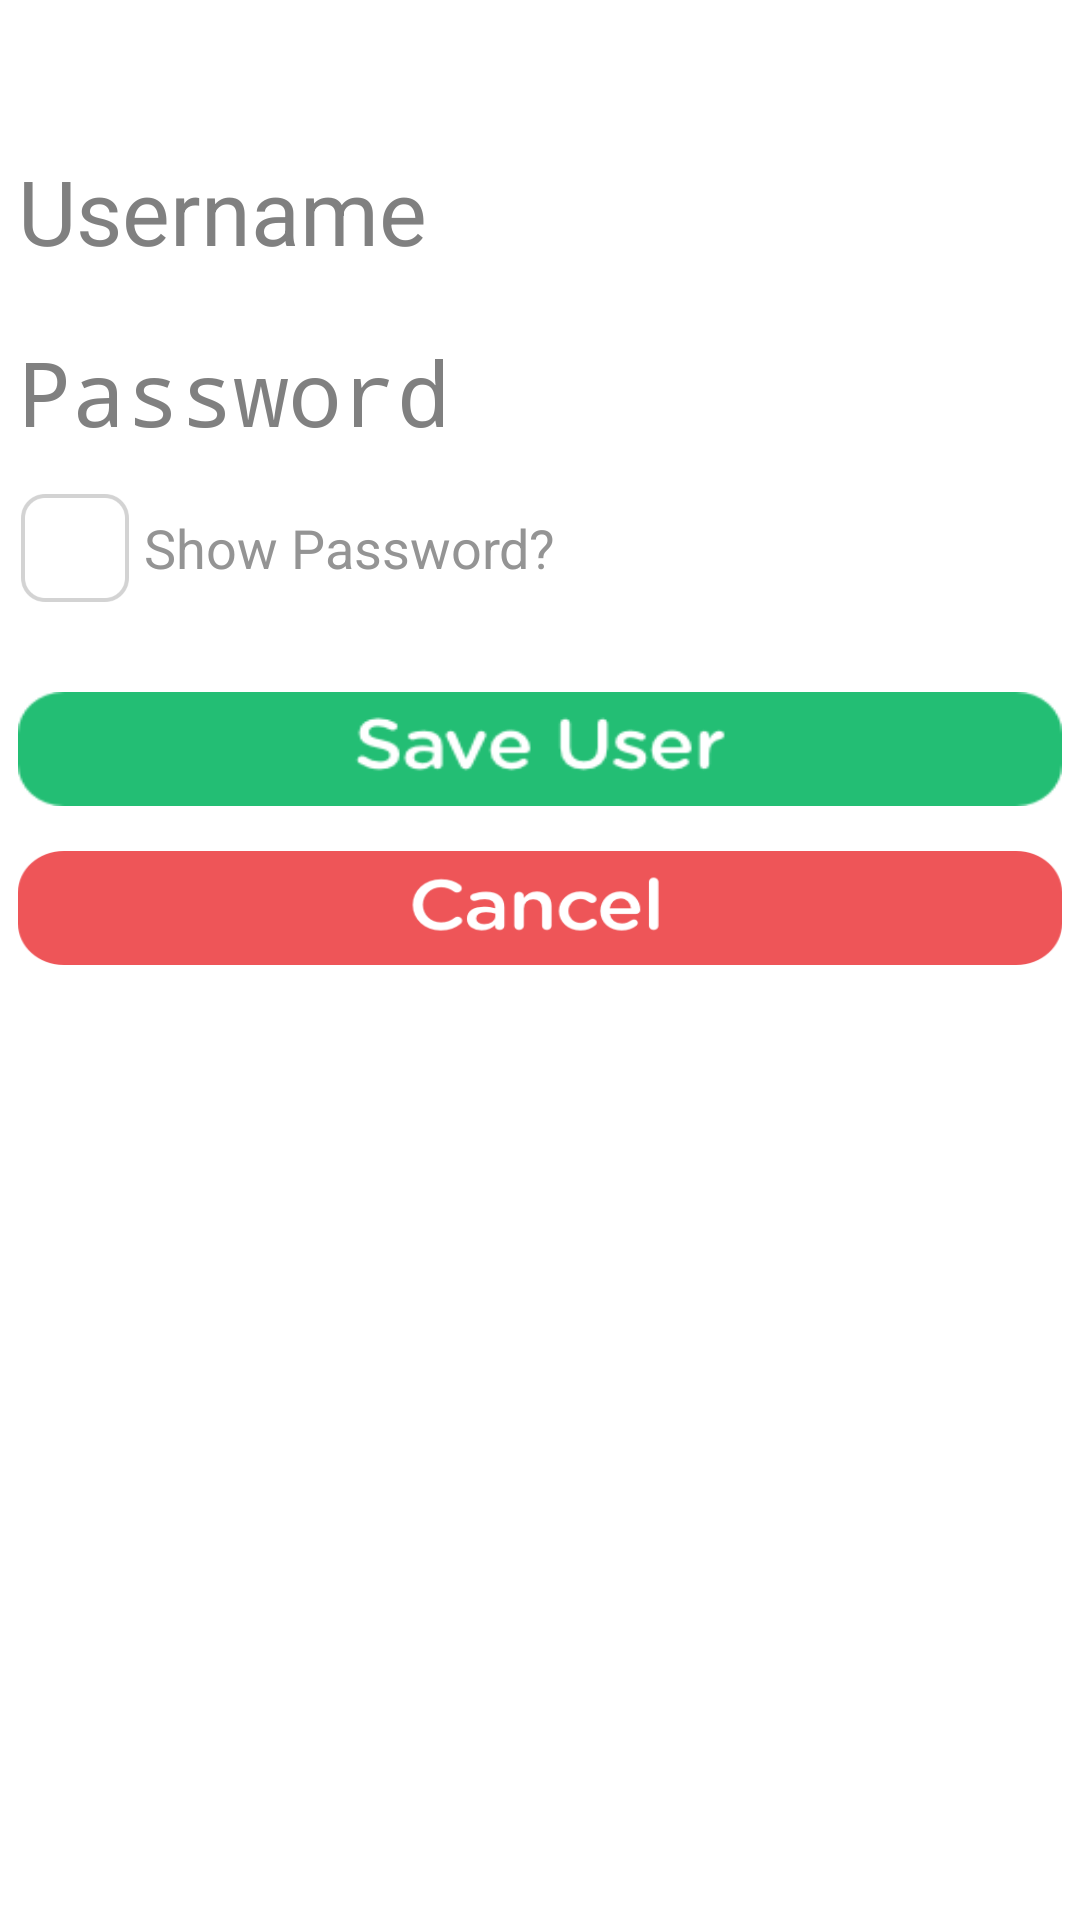

Screen size 1080x1920. Icon name, then its box in pixels as (x1, y1, x2, y2):
toggle check: (21, 494, 129, 602)
